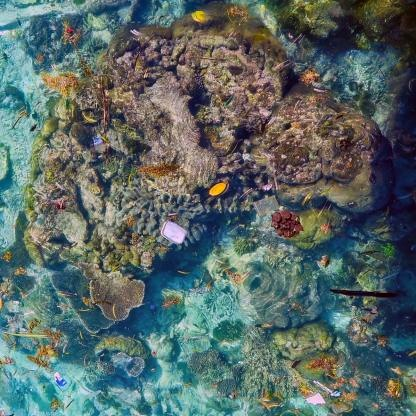pbag: (252, 188, 282, 223)
plastic: (160, 216, 192, 246)
